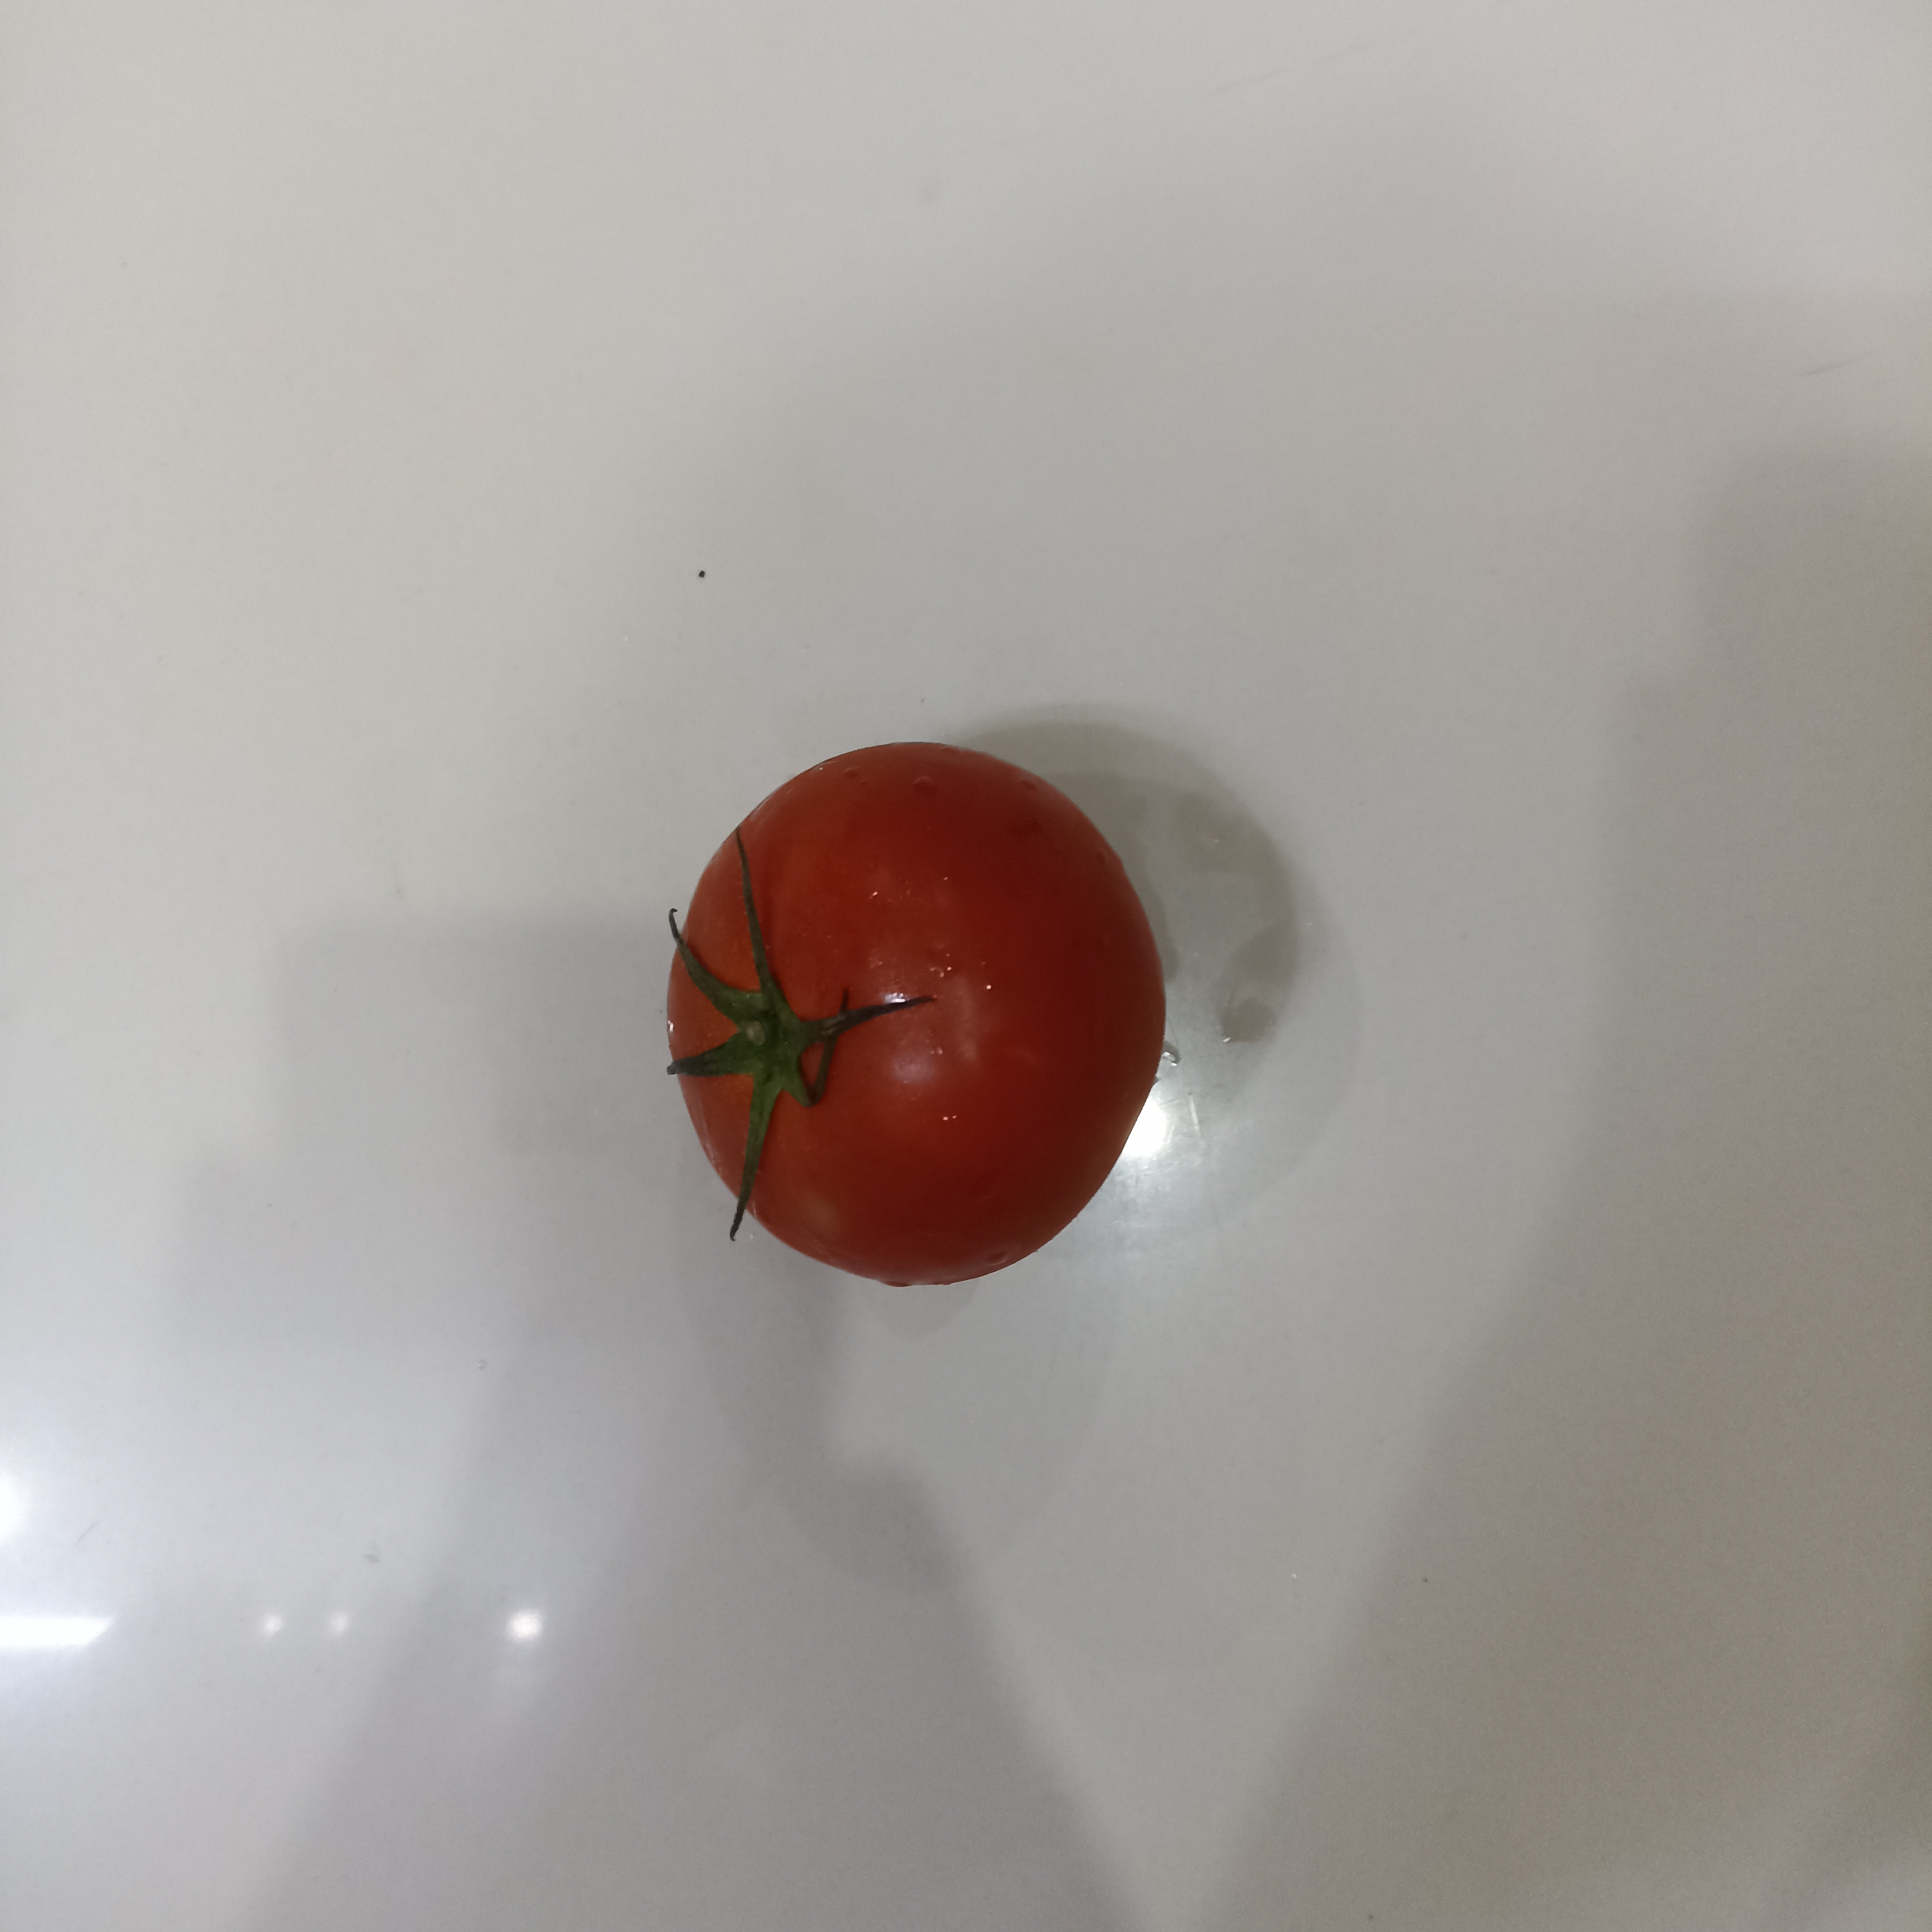Ca chua: (663, 741, 1162, 1283)
